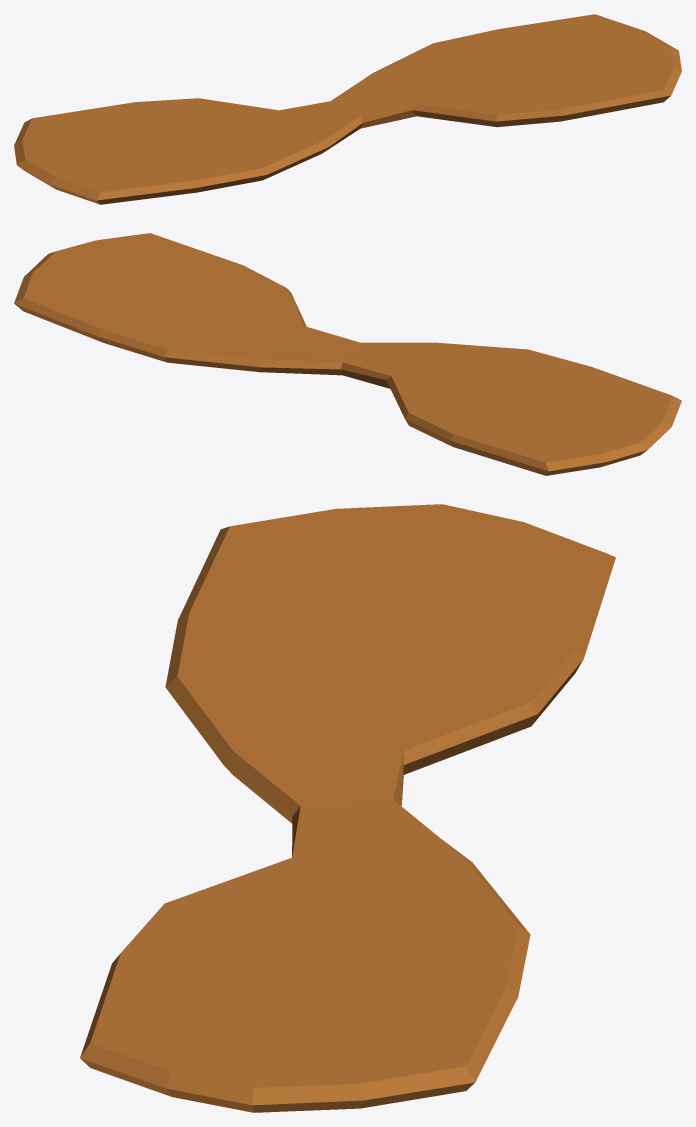
The model's file is GunBotRotorTop.fbx.
The picture shows the model from 3 angles, top to bottom: view 1: azimuth 30°, elevation 25°; view 2: azimuth 150°, elevation 25°; view 3: azimuth 270°, elevation 25°; orthographic projection. The views are drawn at different scales.
Visible parts, largest first — view 1: GunBotRotorTop; view 2: GunBotRotorTop; view 3: GunBotRotorTop.
Boxes of the visible parts, <box> form: GunBotRotorTop: <box>14,14,681,204</box>; GunBotRotorTop: <box>14,233,681,475</box>; GunBotRotorTop: <box>80,504,615,1112</box>.
Size of the model in its own units: 98.55 by 2.65 by 37.26.
